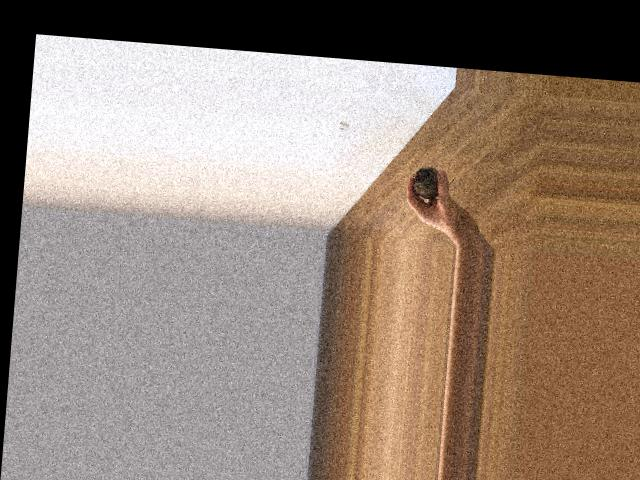beet: (411, 165, 455, 200)
